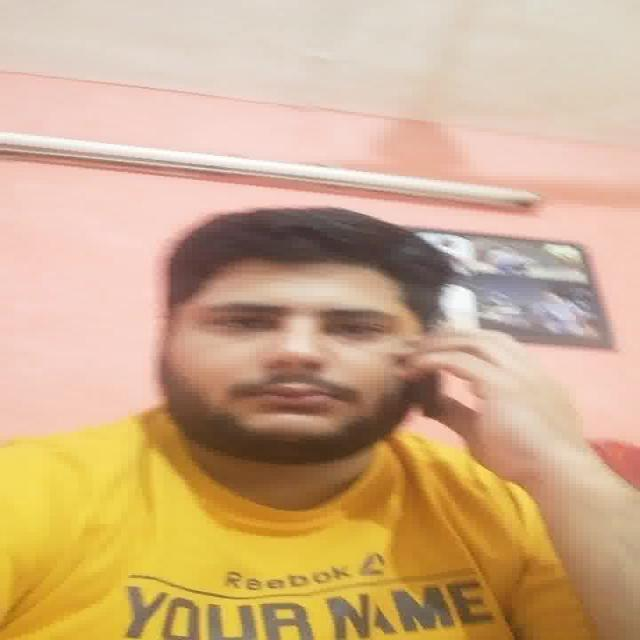Phone: (420, 361, 442, 422)
